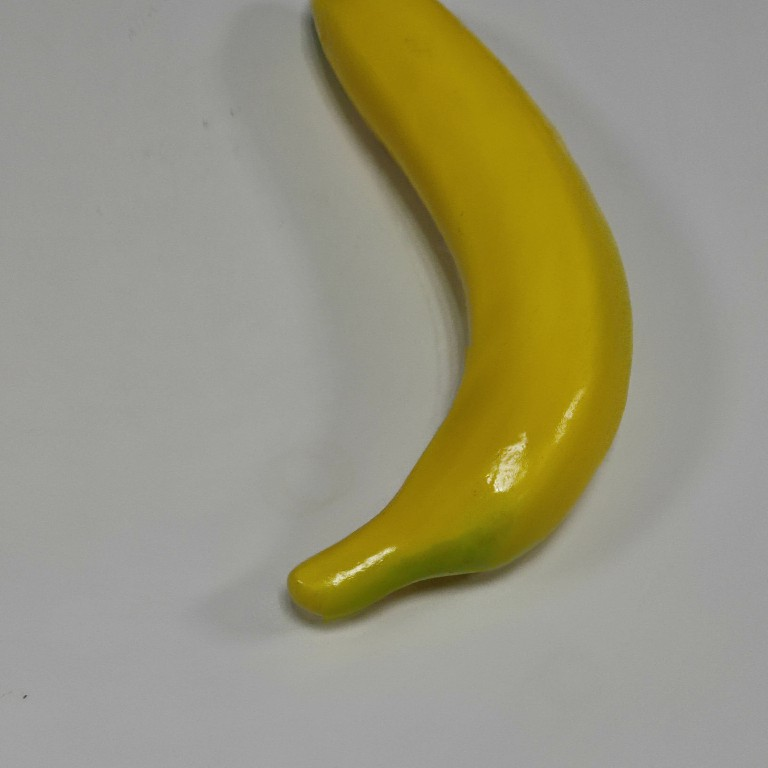fruit_banana: (283, 1, 638, 628)
